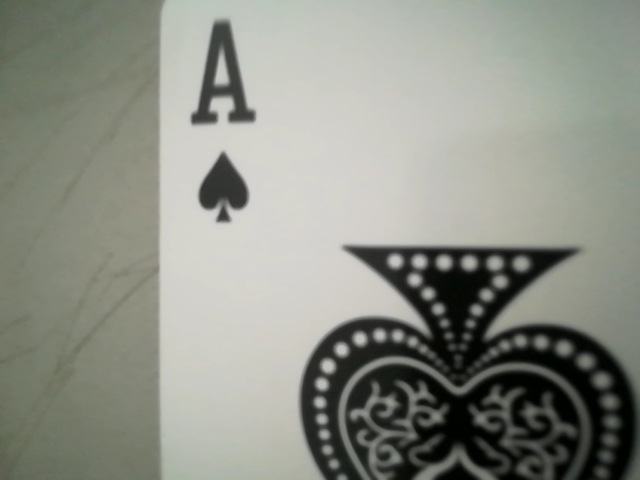ht a: (168, 17, 260, 231)
